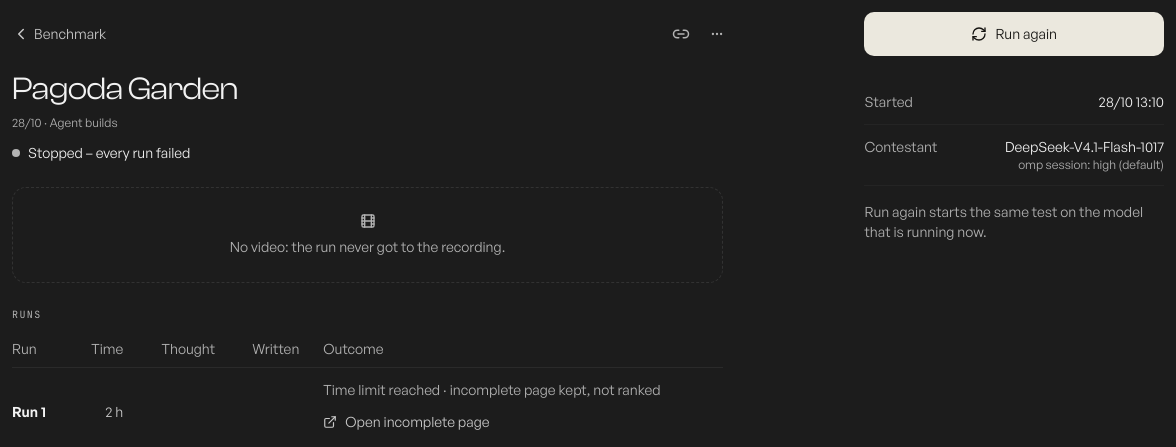
ResultPage — time limit keeps an incomplete page (28.10.) › offers the kept page in the menu under its own name
Click the button named "More actions": (717, 34) [703,20,731,48]
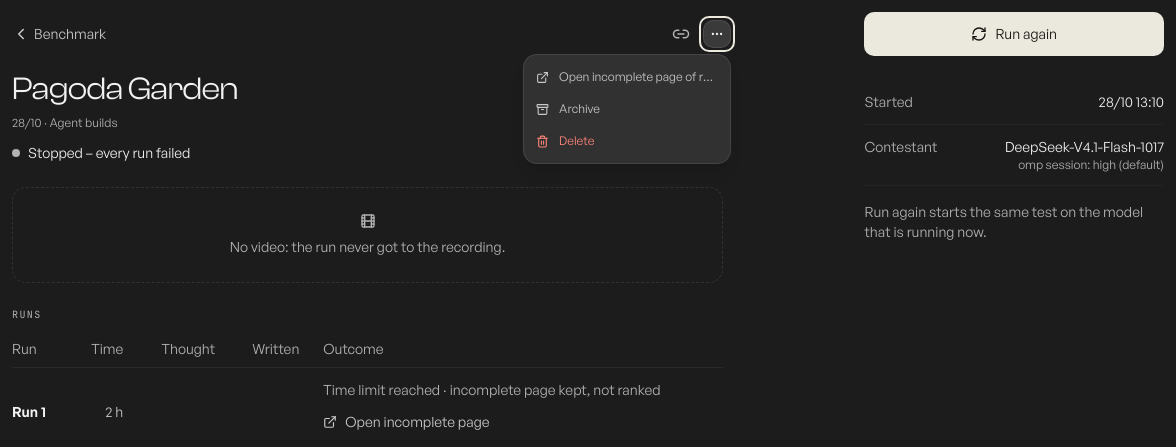
Check: the menu item "Open incomplete page of run 1" is shown, box [524,61,730,93]
